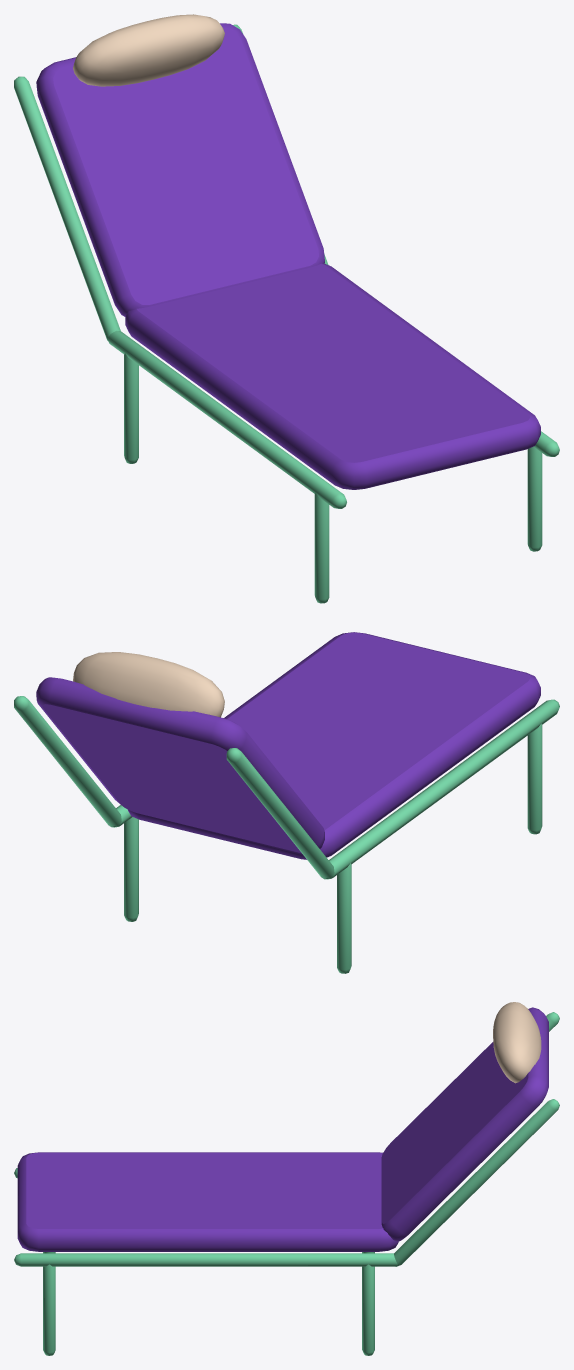
Rendered from lounge-chair.glb.
The picture shows the model from 3 angles, top to bottom: view 1: azimuth 30°, elevation 25°; view 2: azimuth 150°, elevation 25°; view 3: azimuth 270°, elevation 25°; orthographic projection. The views are drawn at different scales.
Parts seen in each view (by area): view 1: lounge-chair; view 2: lounge-chair; view 3: lounge-chair.
Part boxes in pixels (x1,y1,x2,y2): lounge-chair: [14, 14, 559, 603]; lounge-chair: [14, 632, 559, 973]; lounge-chair: [14, 1002, 559, 1355].
Size of the model in its own units: 0.62 by 0.9164 by 1.54.
